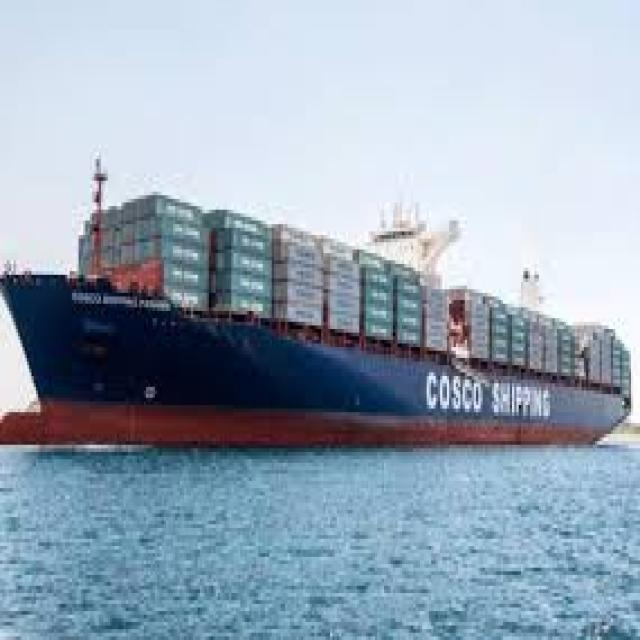cargoship: (1, 148, 632, 452)
